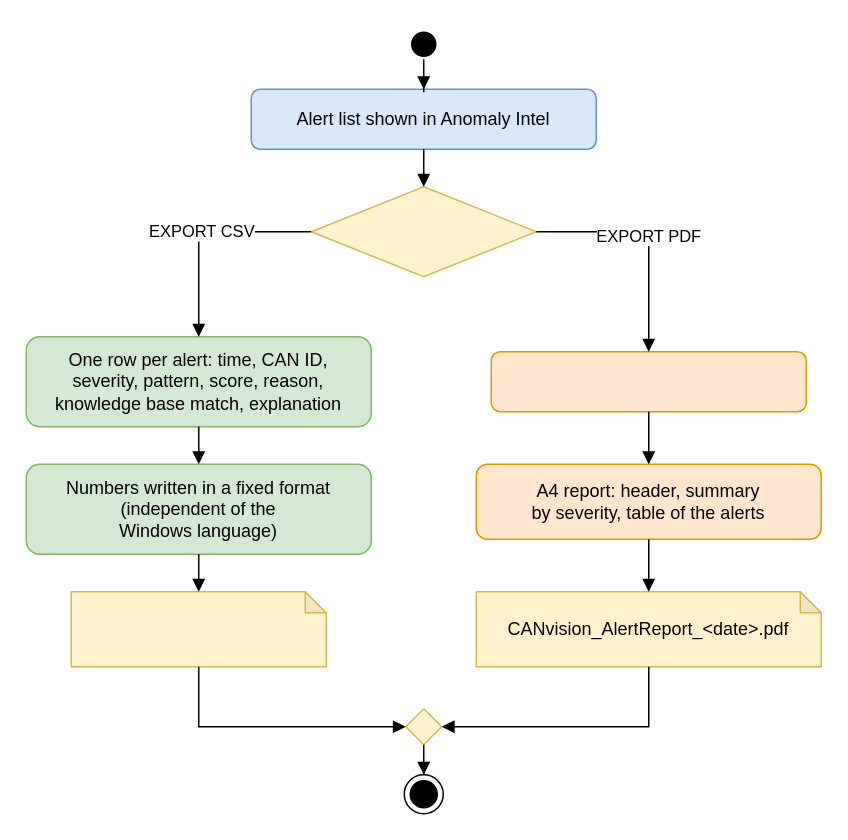
Some shapes in this 848 by 840 pixel diagram are drawn without their labels. The centre of each missing label's shape, as x and y in pixels:
alerts_<date>.csv: (198,628)
PdfReportBuilder.Build(): (648,381)
Which export?: (423,231)
